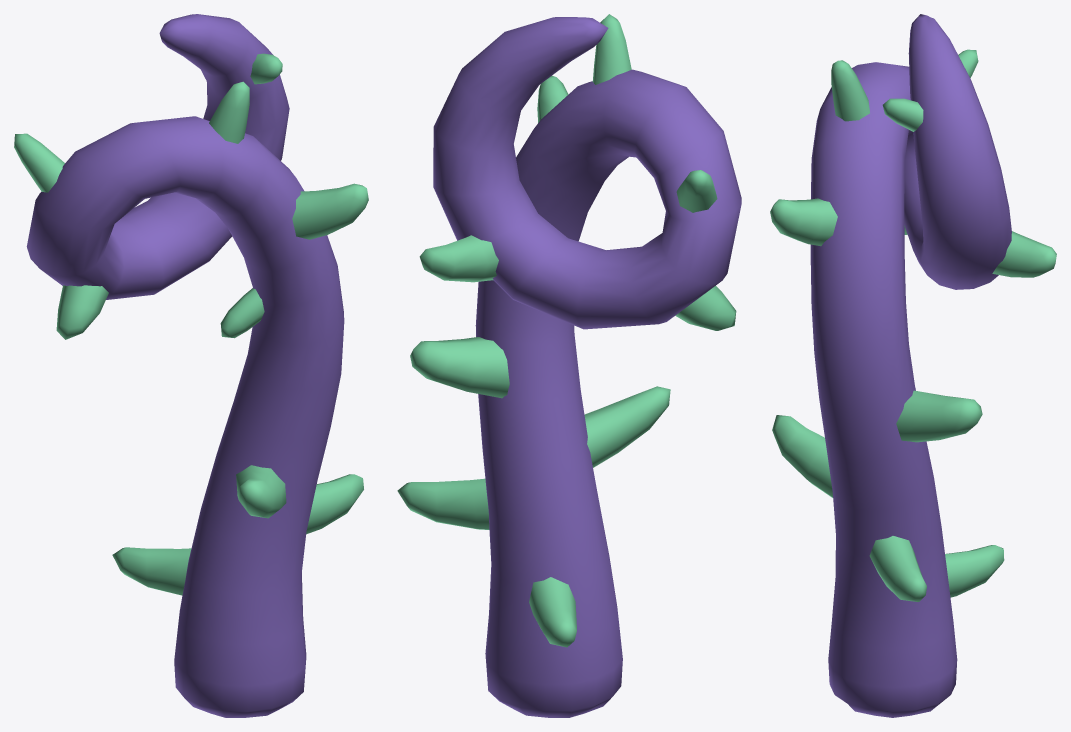
File: Vine_A_03.fbx
3 renders of one model, left to right at view 1: azimuth 30°, elevation 25°; view 2: azimuth 150°, elevation 25°; view 3: azimuth 270°, elevation 25°, orthographic. The views are drawn at different scales.
Visible parts, largest first — view 1: Vine_A_03_LOD0; view 2: Vine_A_03_LOD0; view 3: Vine_A_03_LOD0.
Part boxes in pixels (<box>): Vine_A_03_LOD0: <box>14,14,368,717</box>; Vine_A_03_LOD0: <box>397,14,741,717</box>; Vine_A_03_LOD0: <box>770,14,1056,717</box>.
Size of what is drawn, in the model's own units: 347 by 702 by 275.
